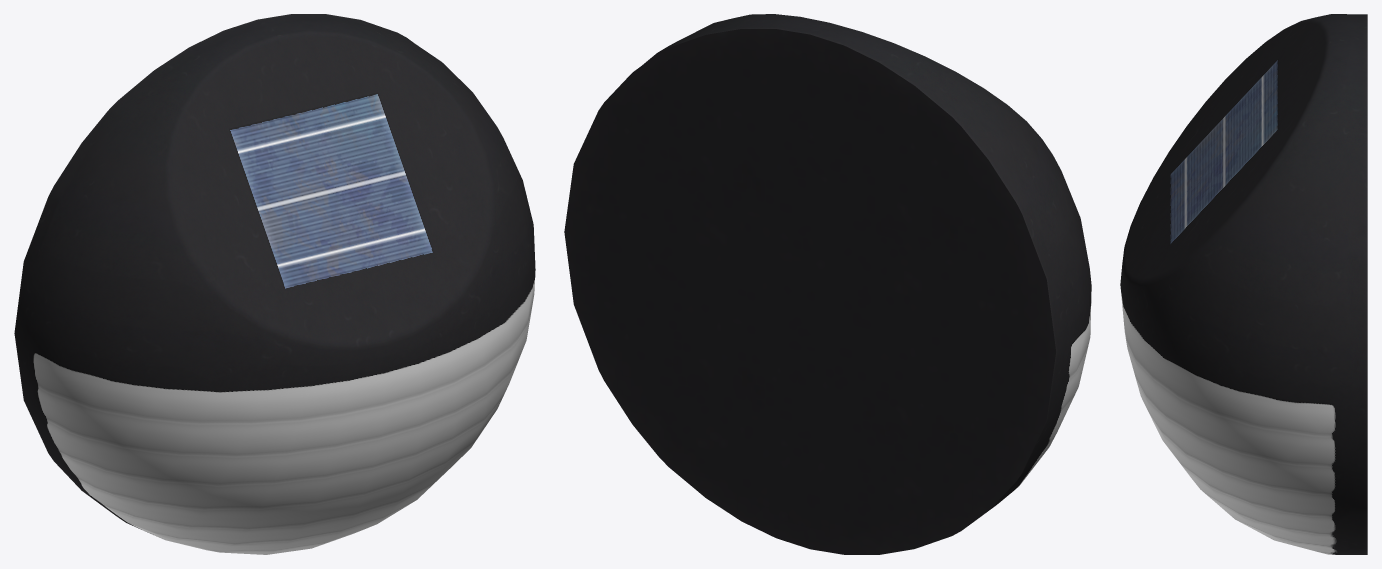
File: GardenLightWall01.FBX
3 views of the same model, side by side, from view 1: azimuth 30°, elevation 25°; view 2: azimuth 150°, elevation 25°; view 3: azimuth 270°, elevation 25° (orthographic). The views are drawn at different scales.
Parts seen in each view (by area): view 1: GardenLightWall01; view 2: GardenLightWall01; view 3: GardenLightWall01.
Part boxes in pixels (<box>): GardenLightWall01: <box>14,14,535,554</box>; GardenLightWall01: <box>564,14,1091,554</box>; GardenLightWall01: <box>1120,14,1367,554</box>.
Size of what is drawn, in the model's own units: 0.2274 by 0.2274 by 0.1035.
